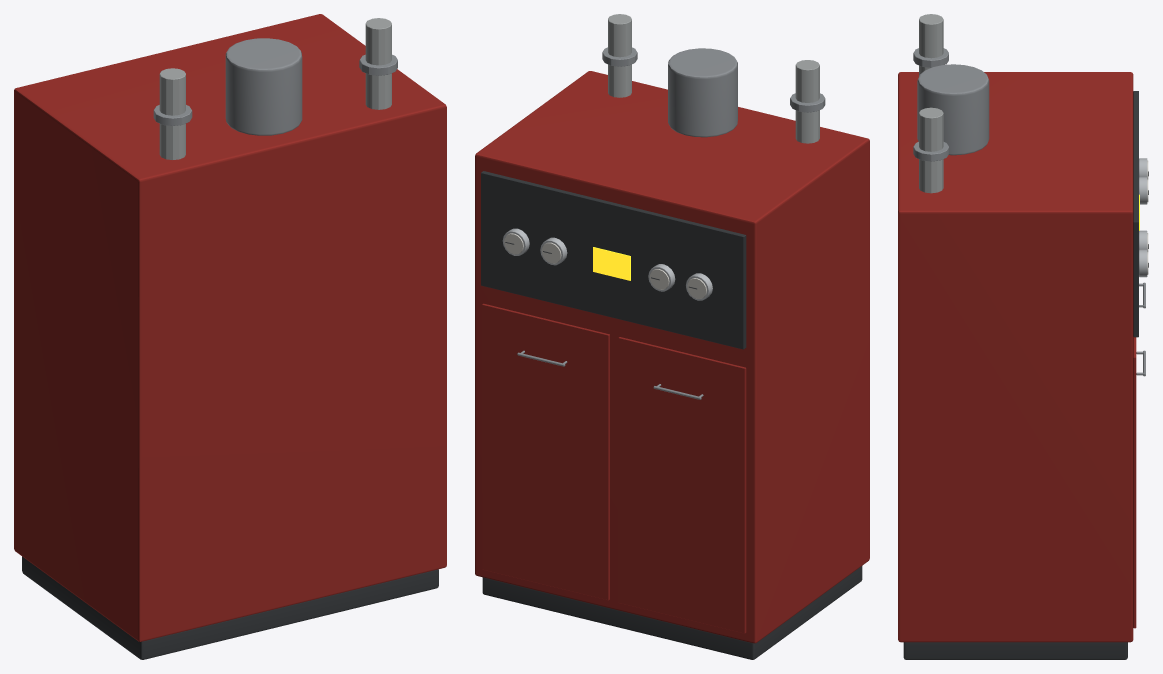
File: prop_boiler.glb
3 views of the same model, side by side, from view 1: azimuth 30°, elevation 25°; view 2: azimuth 150°, elevation 25°; view 3: azimuth 270°, elevation 25° (orthographic). The views are drawn at different scales.
Parts seen in each view (by area): view 1: Boiler; view 2: Boiler; view 3: Boiler.
Boxes of the visible parts, bbox=[...] form: Boiler: bbox=[14, 14, 446, 659]; Boiler: bbox=[475, 14, 869, 659]; Boiler: bbox=[898, 14, 1148, 659].
Size of what is drawn, in the model's own units: 1.2 by 2.1 by 0.906.
